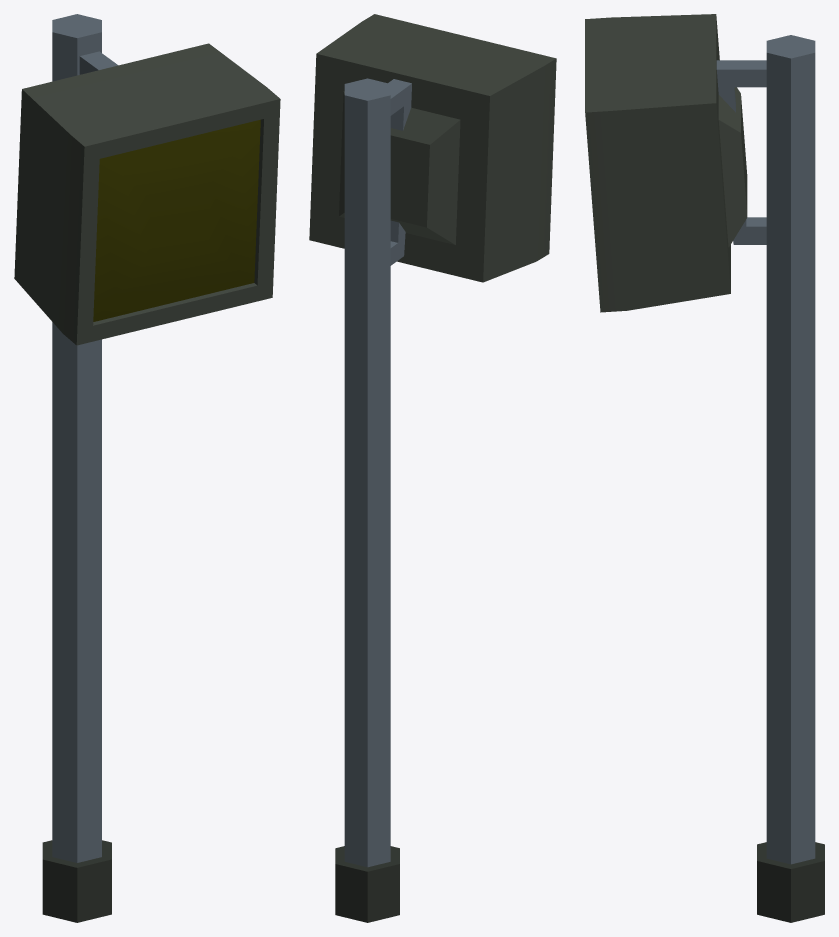
Rendered from tv_modguide.fbx.
3 renders of one model, left to right at view 1: azimuth 30°, elevation 25°; view 2: azimuth 150°, elevation 25°; view 3: azimuth 270°, elevation 25°, orthographic. The views are drawn at different scales.
Parts seen in each view (by area): view 1: tv_modguide, TvPanel; view 2: tv_modguide; view 3: tv_modguide.
Part boxes in pixels (x1,y1,x2,y2): tv_modguide: (14, 14, 280, 922); TvPanel: (93, 119, 260, 321); tv_modguide: (309, 14, 556, 922); tv_modguide: (585, 14, 824, 922).
Size of the model in its own units: 0.2044 by 0.877 by 0.2216.
